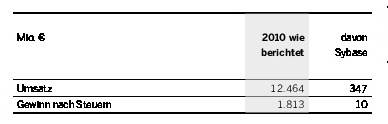table: (0, 0, 388, 124)
